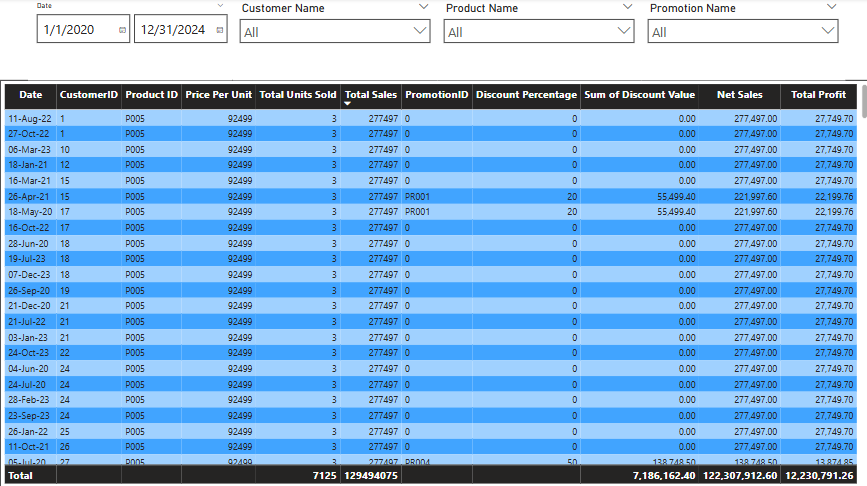

This screenshot's page, from the dashboard's own definition file:
{"tool":"powerbi","page":{"name":"Table Visual","canvas":[1280,720],"ordinal":3},"visuals":[{"type":"tableEx","fields":{"Values":["Fact Table.Date (dd/mm/yyyy)","Fact Table.CustomerID","Fact Table.Product ID","Fact Table.Price Per Unit","Sum(Fact Table.Units Sold)","Sum(Fact Table.Total Sales)","Fact Table.PromotionID","Fact Table.Discount Percentage","Sum(Fact Table.Discount Value)","Sum(Fact Table.Net Sales)","Sum(Fact Table.Profit)"]},"box":[0,120.9,1280.6,598.5],"z":0},{"type":"slicer","fields":{"Values":["Date Table 1.Date"]},"box":[41.8,0,300,120.9],"z":1},{"type":"slicer","fields":{"Values":["Dim Product.Product Name"]},"box":[641.8,0,300,120.9],"z":2},{"type":"slicer","fields":{"Values":["Dim Customers.Customer Name"]},"box":[341.8,0,300,120.9],"z":3},{"type":"slicer","fields":{"Values":["Dim Promotion.Promotion Name"]},"box":[941.8,0,300,120.9],"z":4}]}

Visuals, with their boxes in screenshot pixels (x1, y1, x2, y2), scaled from the page's 1280x720 canvas onto the 867x486 screenshot:
tableEx - Fact Table.Date (dd/mm/yyyy) x Fact Table.CustomerID: bbox(0, 82, 866, 485)
slicer - Date Table 1.Date: bbox(28, 0, 232, 82)
slicer - Dim Product.Product Name: bbox(435, 0, 638, 82)
slicer - Dim Customers.Customer Name: bbox(232, 0, 435, 82)
slicer - Dim Promotion.Promotion Name: bbox(638, 0, 841, 82)
